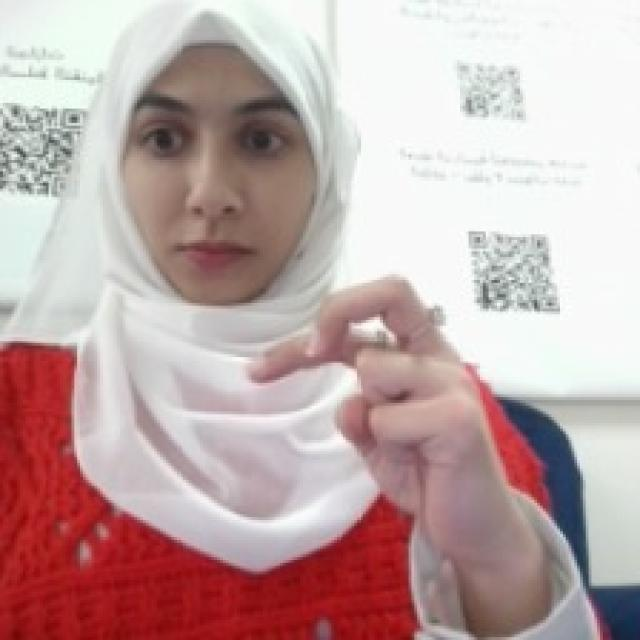sunday: (237, 263, 494, 523)
